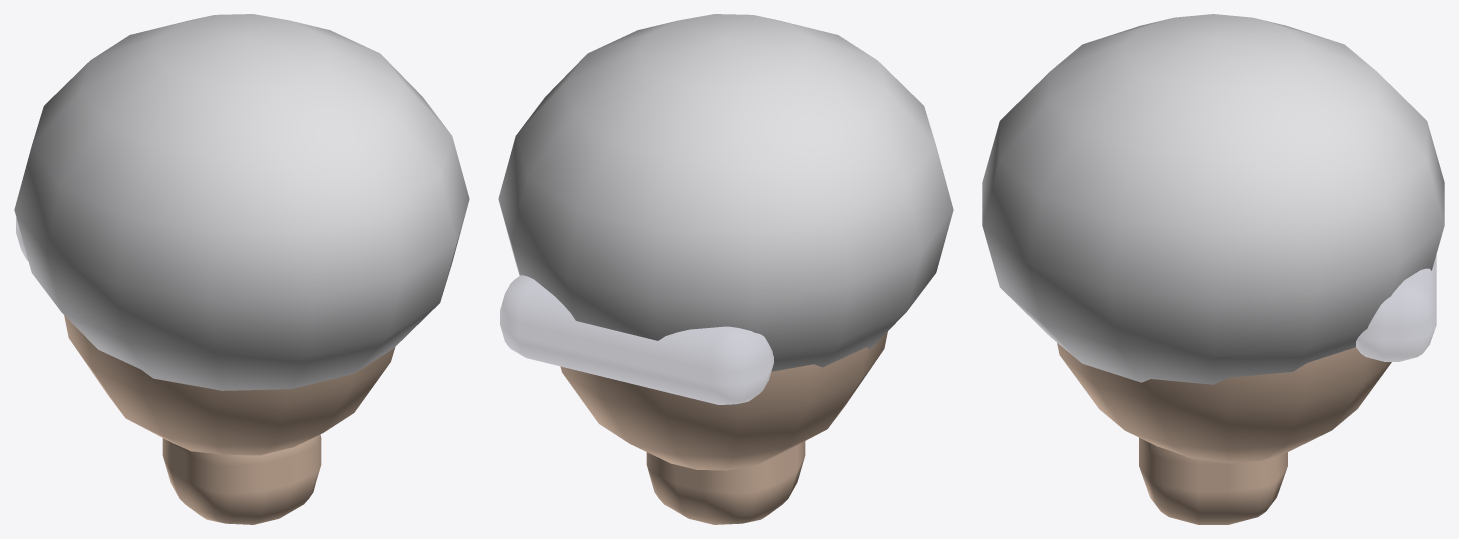
Rendered from soldier_head.gltf.
3 renders of one model, left to right at view 1: azimuth 30°, elevation 25°; view 2: azimuth 150°, elevation 25°; view 3: azimuth 270°, elevation 25°, orthographic.
Visible parts, largest first — view 1: head; view 2: head; view 3: head.
Boxes of the visible parts, x1,y1,x2,y2 form: head: [14, 14, 469, 524]; head: [498, 14, 953, 524]; head: [982, 14, 1444, 524].
Size of the model in its own units: 0.3045 by 0.3533 by 0.311.
